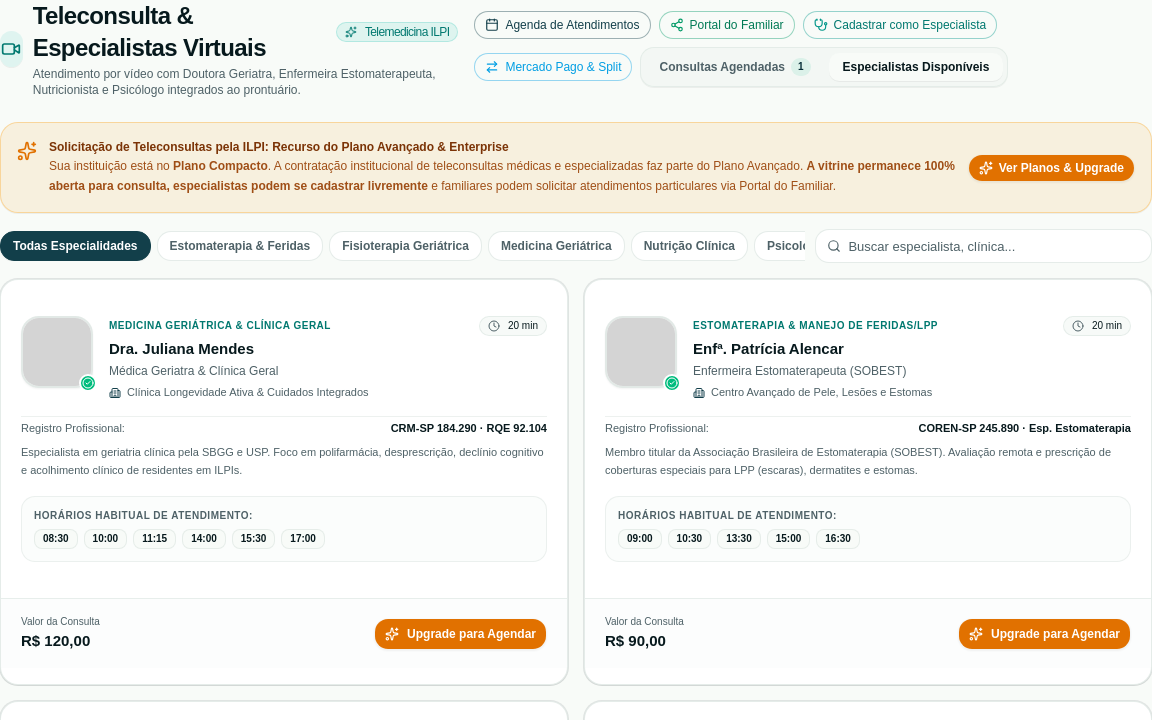
Test case: Teleconsulta Page › permite que qualquer especialista visualize a rede e se cadastre mesmo em plano compacto, bloqueando apenas a solicitação de consulta pela clínica com modal de
expect the heading "Dra. Juliana Mendes" is shown: met, box [109,340,254,357]
expect the text "Solicitação de Teleconsultas pela ILPI: Recurso do Plano Avançado" is shown: met, box [49,140,509,154]
Note: Ao clicar no botão de upgrade, abre o modal explicativo
Step 1. Click the button "Upgrade para Agendar" in the row of "R$ 120,00" → (461, 634), box [374,618,547,650]
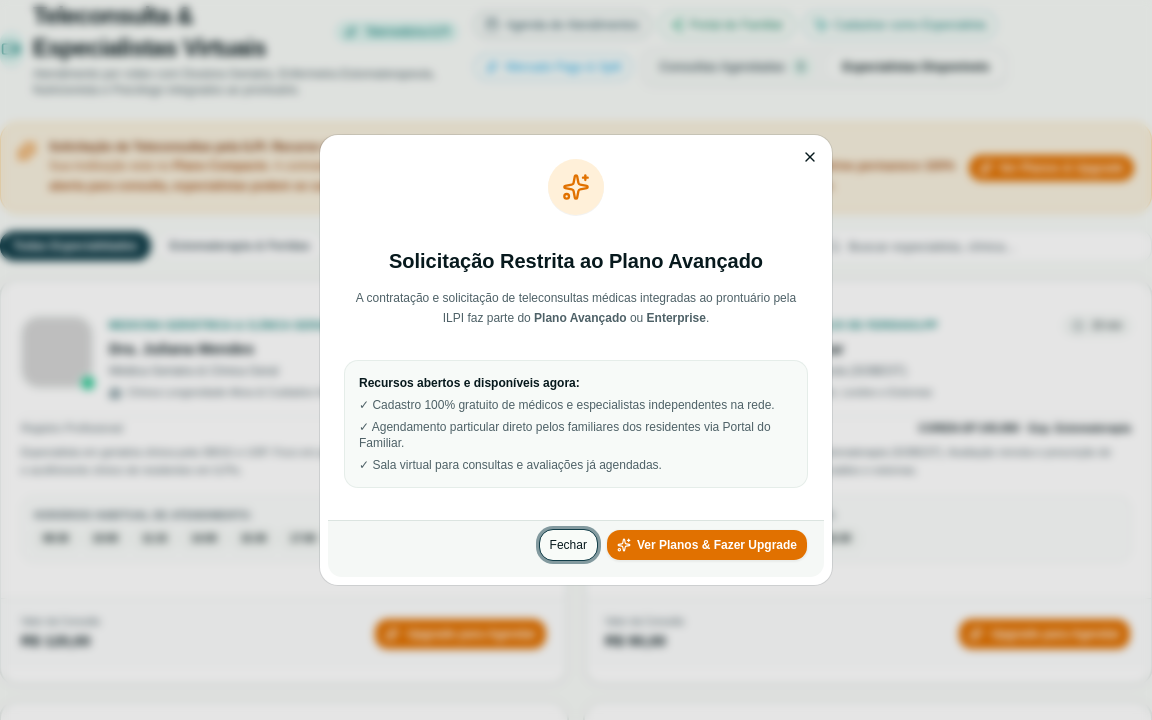
expect the heading "Solicitação Restrita ao Plano Avançado" is shown: met, box [389,250,763,272]
expect the text "Cadastro 100% gratuito de médicos e especialistas independentes na rede" is shown: met, box [359,398,775,412]
